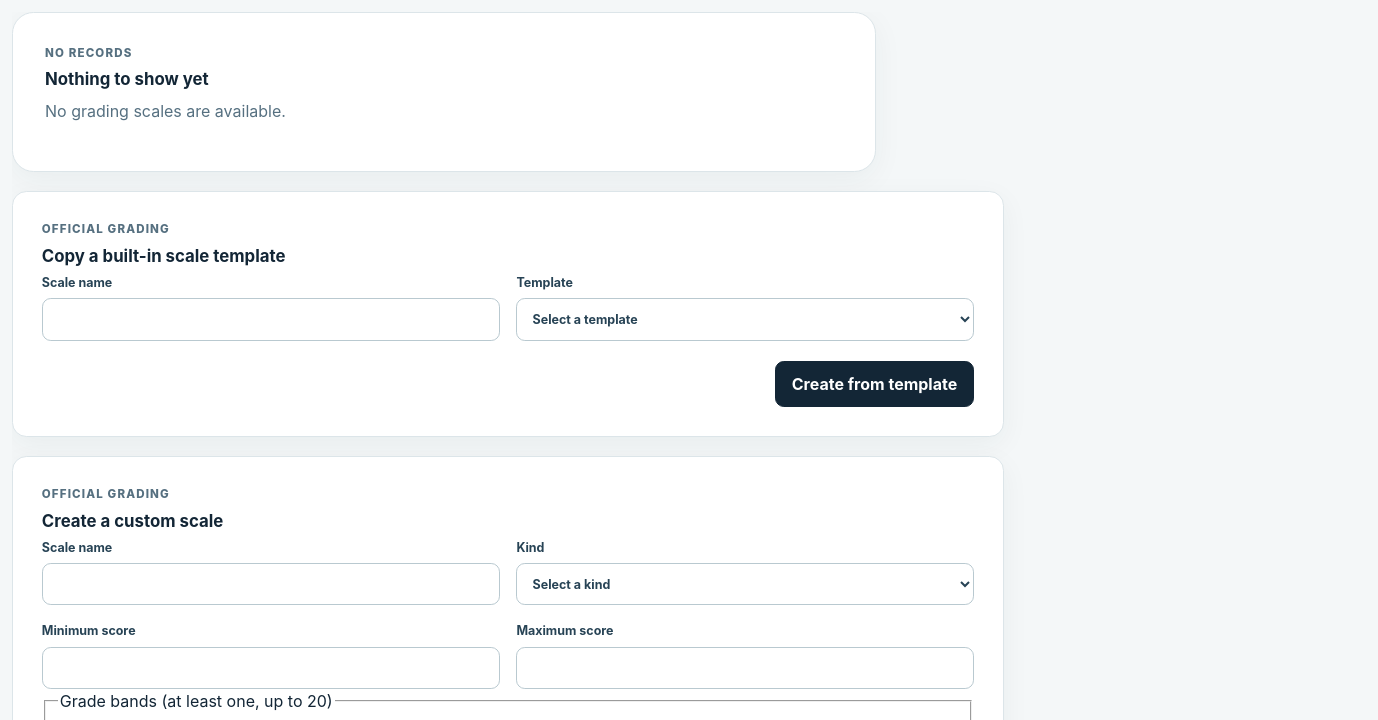
Test case: GradingScaleAdministration › copies a built-in template into the organization
Expected: the text "No grading scales are available." is shown, x1=45 y1=101 x2=286 y2=121
Type "Percentage" into the field labelled "Scale name" below "Copy a built-in scale template" at [271, 319], box x1=42 y1=298 x2=500 y2=341
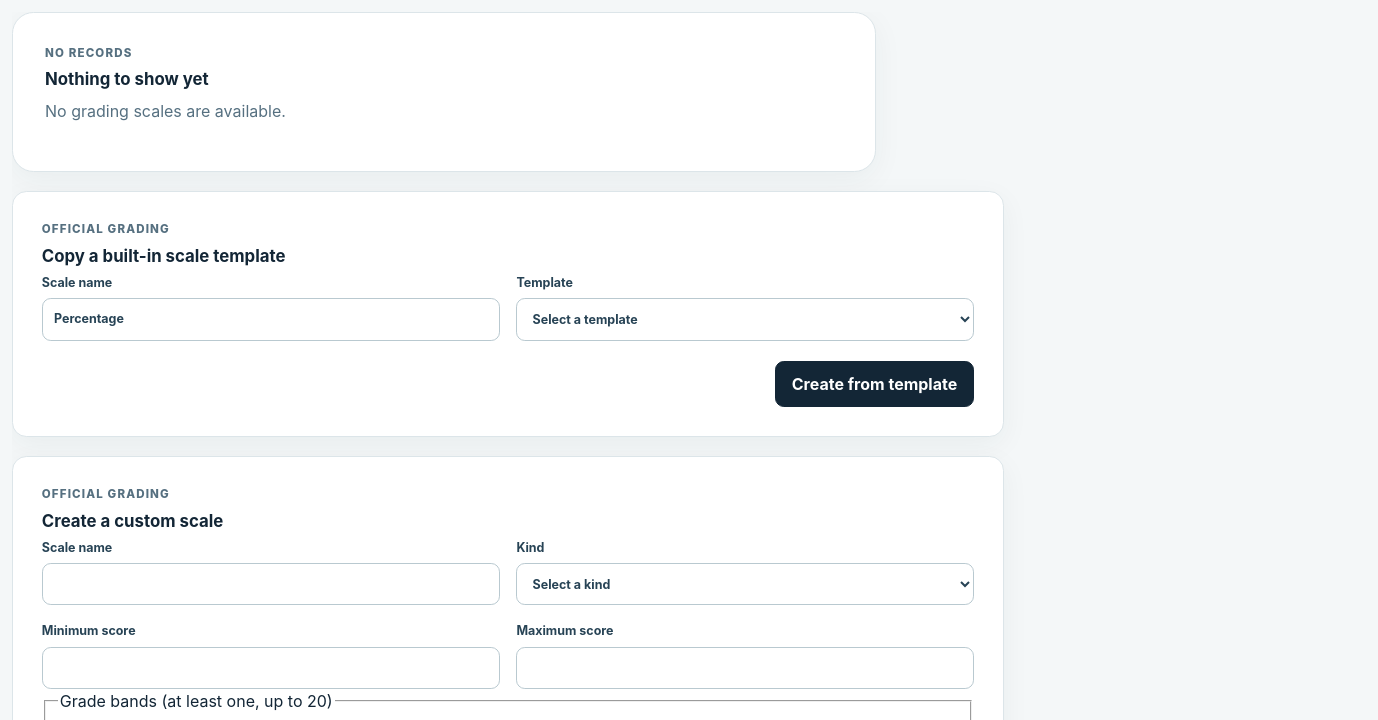
Select "percentage" in the dropdown labelled "Template" at [745, 319], box x1=516 y1=298 x2=974 y2=341
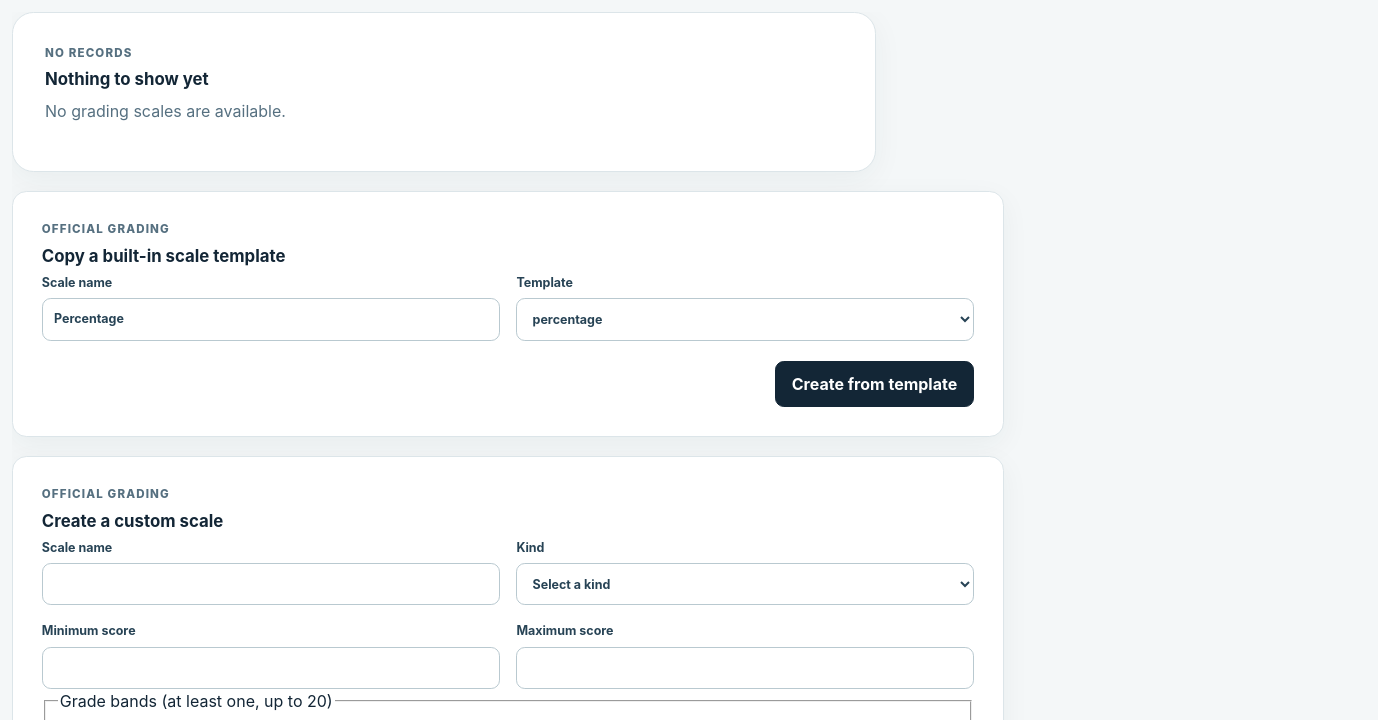
Click the button "Create from template" at [874, 384], box x1=775 y1=360 x2=974 y2=407
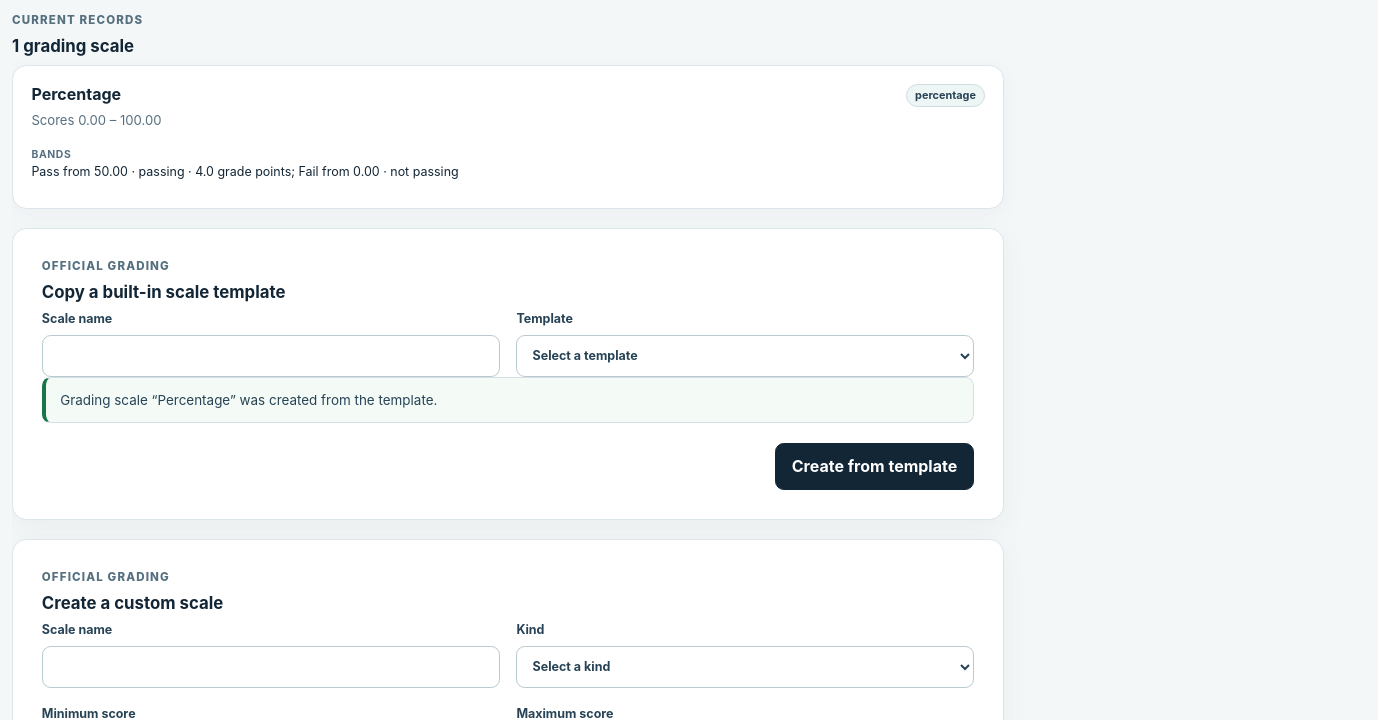
Expected: the text "Grading scale “Percentage” was created from the template." is shown, x1=42 y1=377 x2=974 y2=423
Expected: the heading "1 grading scale" is shown, x1=12 y1=36 x2=143 y2=58
Expected: the text "Pass from 50.00 · passing · 4.0 grade points; Fail from 0.00 · not passing" is shown, x1=31 y1=162 x2=459 y2=181
